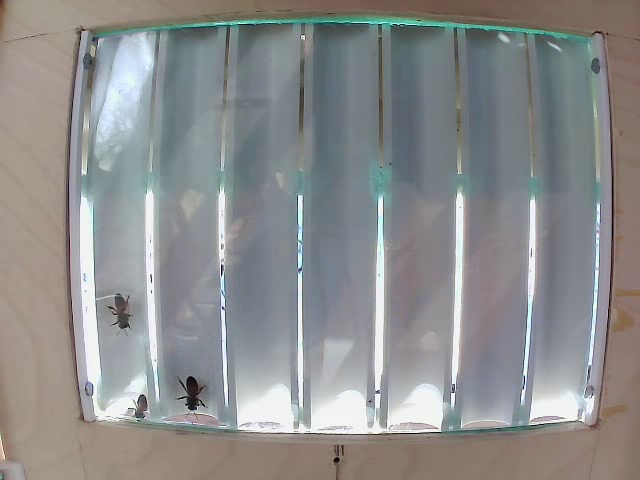bee: (171, 375, 213, 422), (101, 300, 143, 346)
